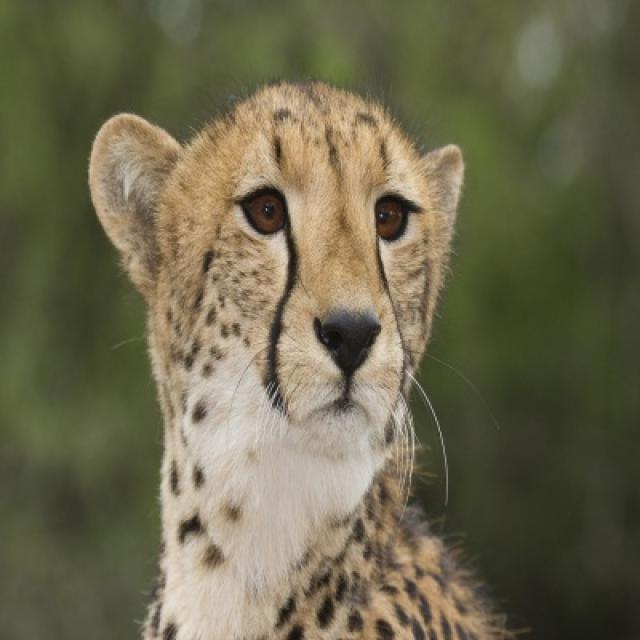Cheetah: (88, 83, 512, 637)
